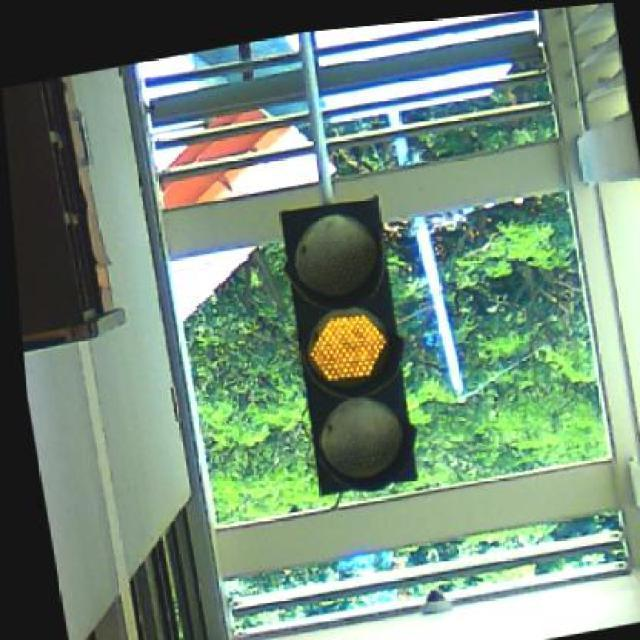yellow_light: (280, 198, 417, 492)
